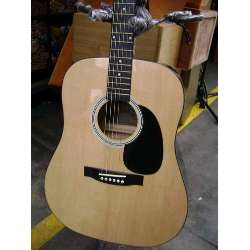guitar: (44, 1, 190, 248)
